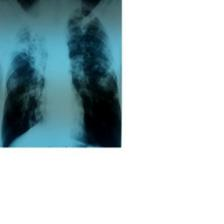tuberculosis: (2, 1, 122, 148)
